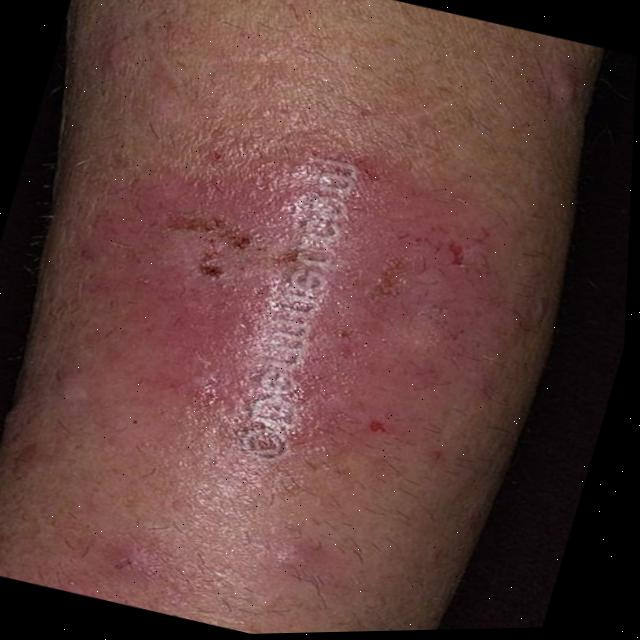Eczema: (94, 167, 484, 515)
